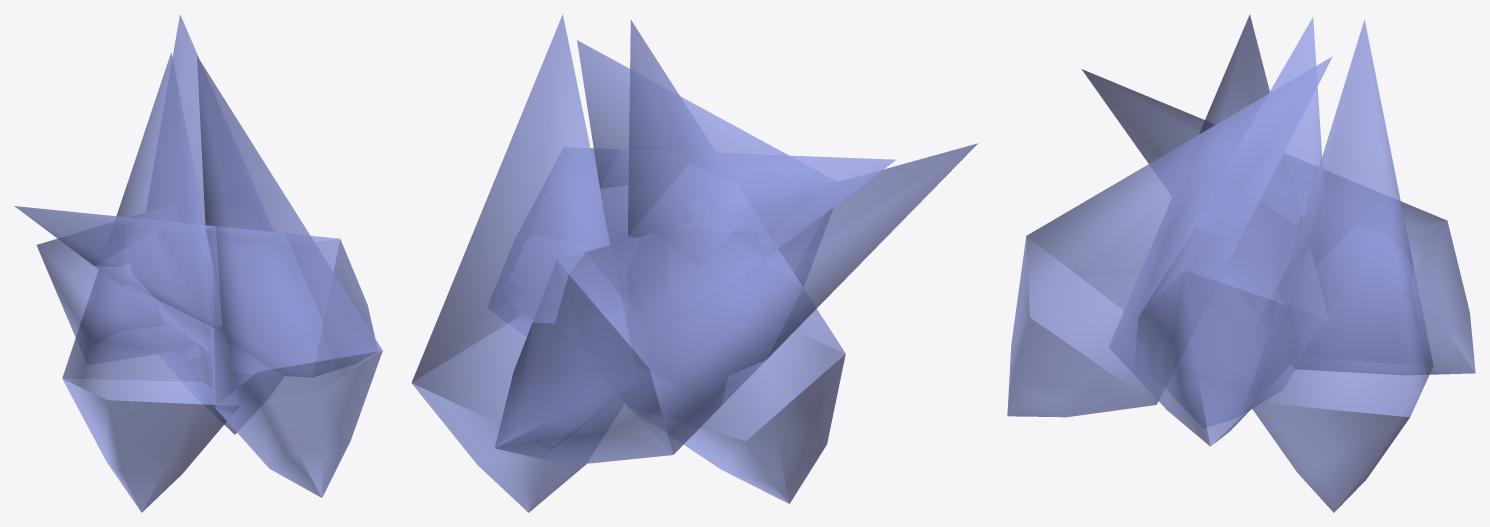
Rendered from Blue Sky.fbx.
The picture shows the model from 3 angles, left to right: view 1: azimuth 30°, elevation 25°; view 2: azimuth 150°, elevation 25°; view 3: azimuth 270°, elevation 25°; orthographic projection. The views are drawn at different scales.
Parts seen in each view (by area): view 1: crystal_shard:pPyramid2; view 2: crystal_shard:pPyramid2; view 3: crystal_shard:pPyramid2.
Part boxes in pixels (x1,y1,x2,y2): crystal_shard:pPyramid2: (14,14,382,512); crystal_shard:pPyramid2: (411,14,977,512); crystal_shard:pPyramid2: (1007,14,1475,512).
Bounding box in the file's own units: 5.96 × 6.91 × 6.22.
